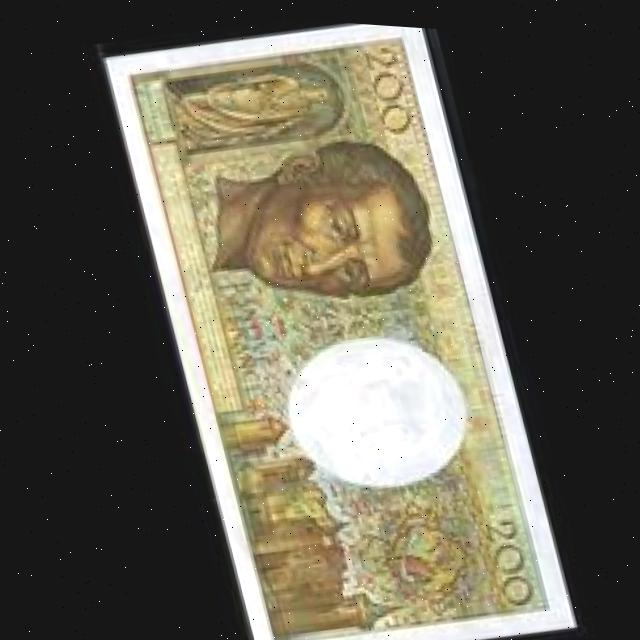banknote: (98, 5, 570, 640), (466, 500, 540, 614), (353, 30, 421, 145)
